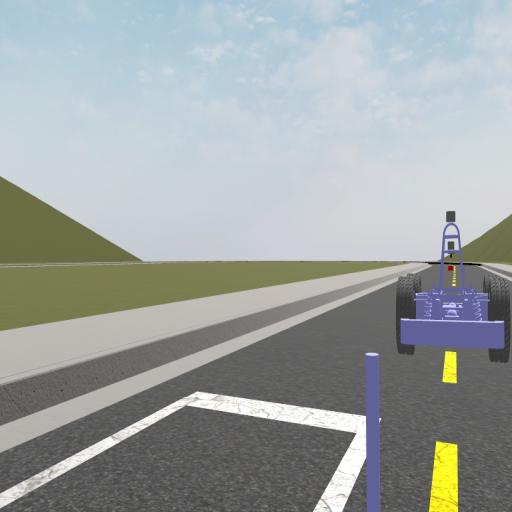ERP-42: (396, 208, 510, 364)
